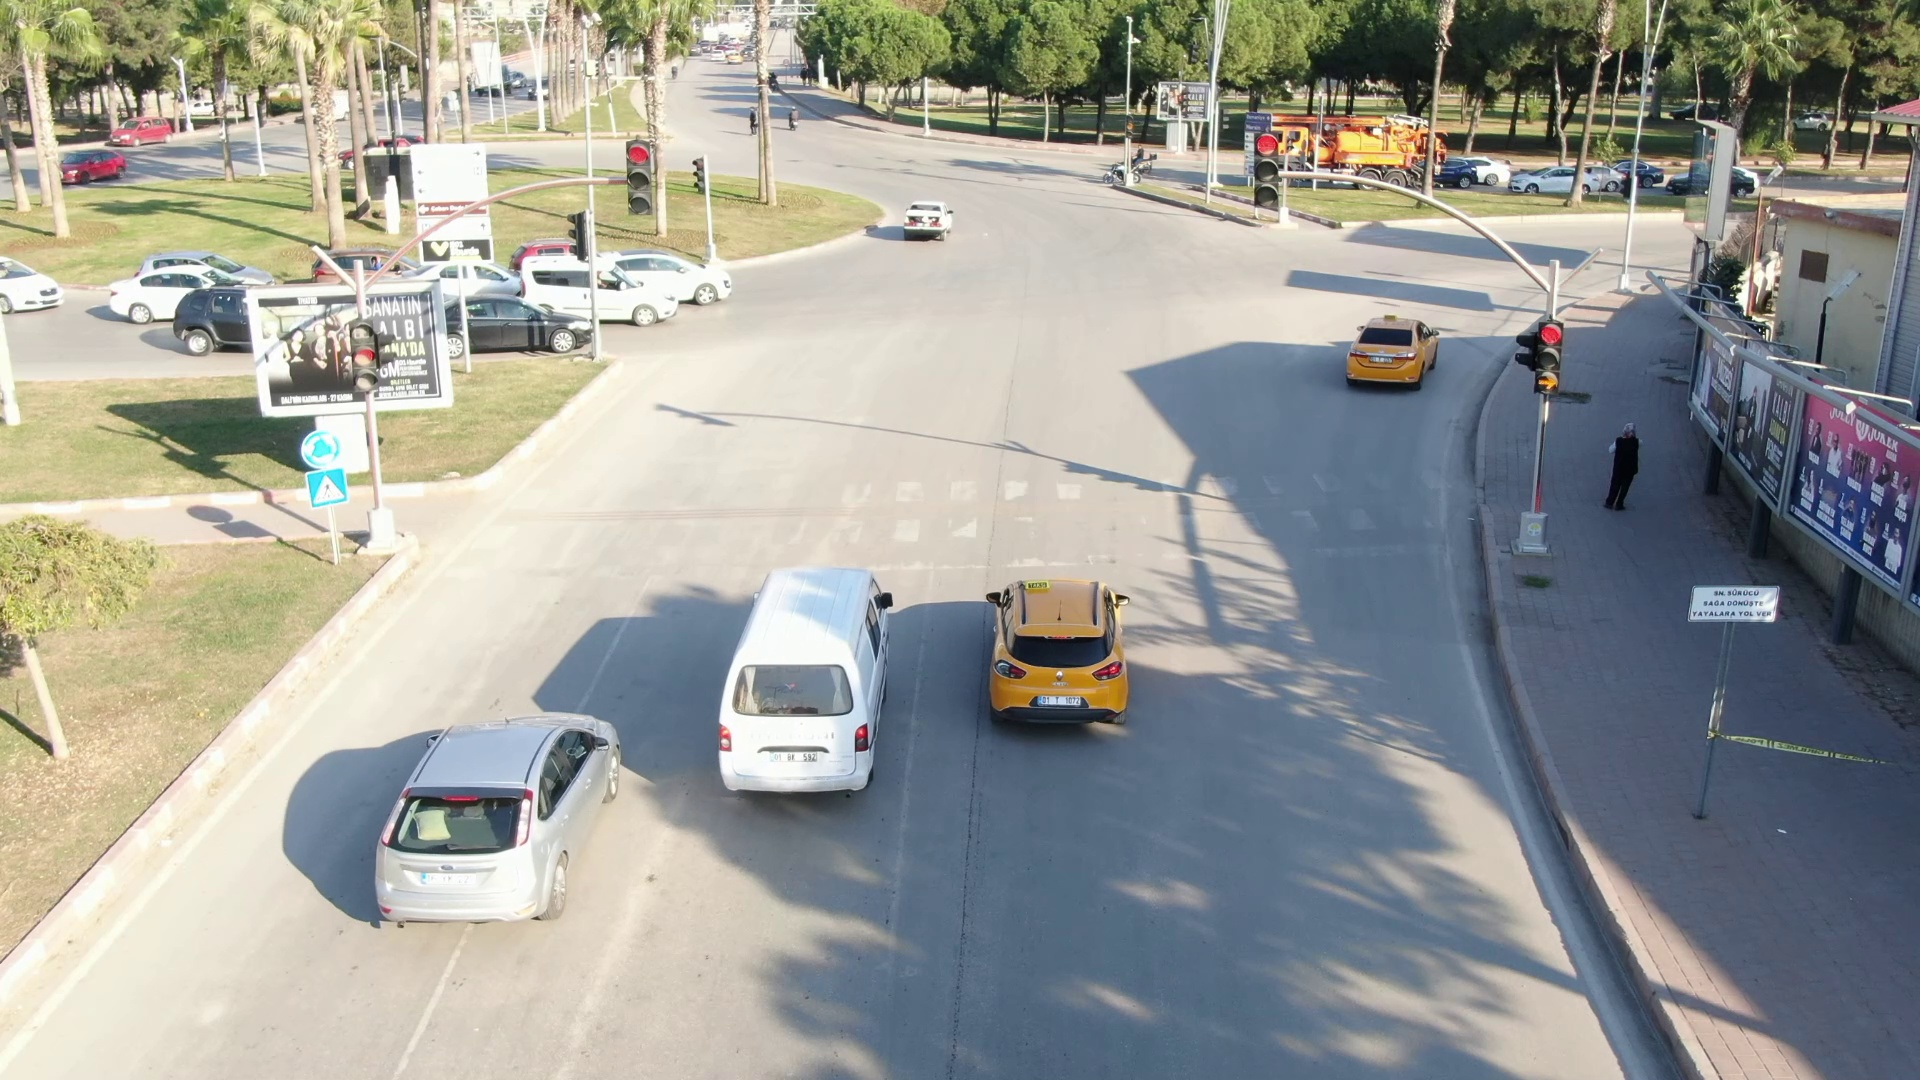car: (368, 712, 637, 915), (708, 566, 890, 806), (982, 574, 1141, 727), (514, 257, 678, 329), (1343, 308, 1445, 392), (441, 292, 586, 349), (174, 284, 263, 353), (610, 249, 731, 298), (110, 280, 210, 323), (890, 194, 959, 247), (45, 145, 133, 186), (408, 270, 521, 292)
person: (1606, 425, 1649, 517)
